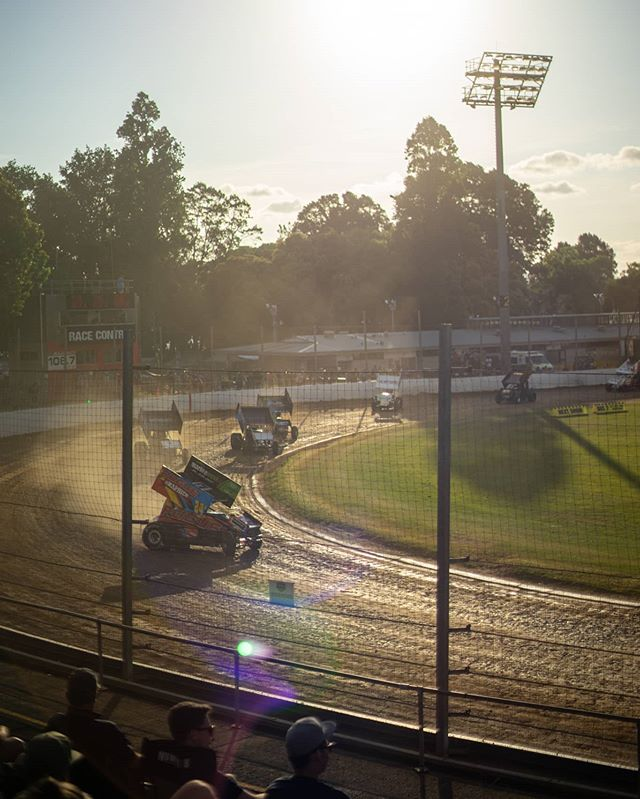car: (135, 464, 268, 561), (215, 390, 304, 460), (135, 403, 195, 460), (364, 372, 405, 419)
grass: (259, 393, 640, 586)
sky: (1, 1, 633, 202)
vegetation: (1, 147, 640, 334)
